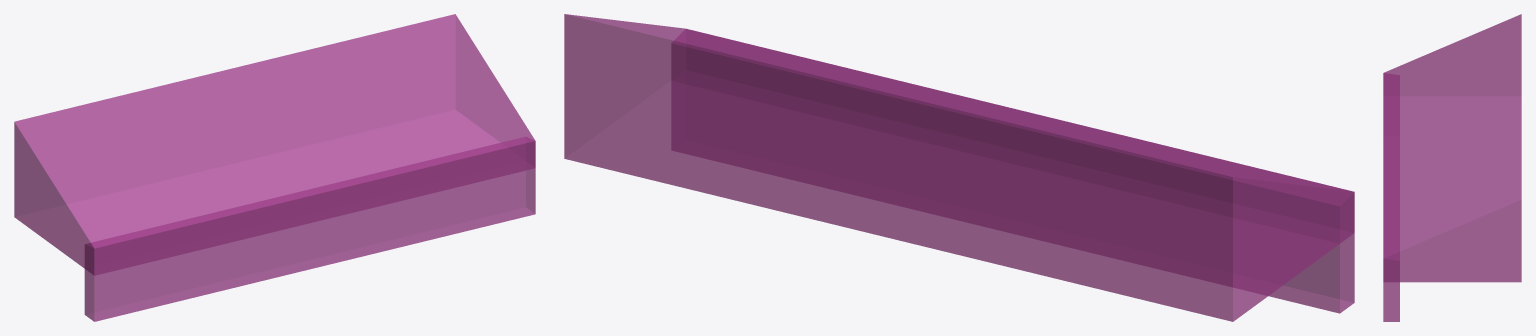
Rendered from SM_Bld_Awning_01_Collision_01.fbx.
3 views of the same model, side by side, from view 1: azimuth 30°, elevation 25°; view 2: azimuth 150°, elevation 25°; view 3: azimuth 270°, elevation 25° (orthographic). The views are drawn at different scales.
Parts seen in each view (by area): view 1: SM_Bld_Awning_01_Collision_01; view 2: SM_Bld_Awning_01_Collision_01; view 3: SM_Bld_Awning_01_Collision_01.
Part boxes in pixels (bbox=[...]): SM_Bld_Awning_01_Collision_01: bbox=[14, 14, 535, 321]; SM_Bld_Awning_01_Collision_01: bbox=[564, 14, 1354, 321]; SM_Bld_Awning_01_Collision_01: bbox=[1383, 14, 1521, 321].
Size of the model in its own units: 240 by 73.52 by 75.39.
